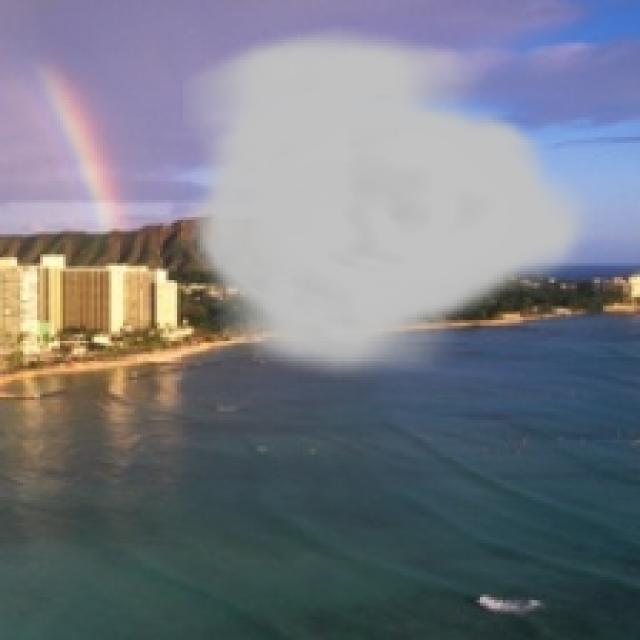smoke: (183, 26, 594, 386)
